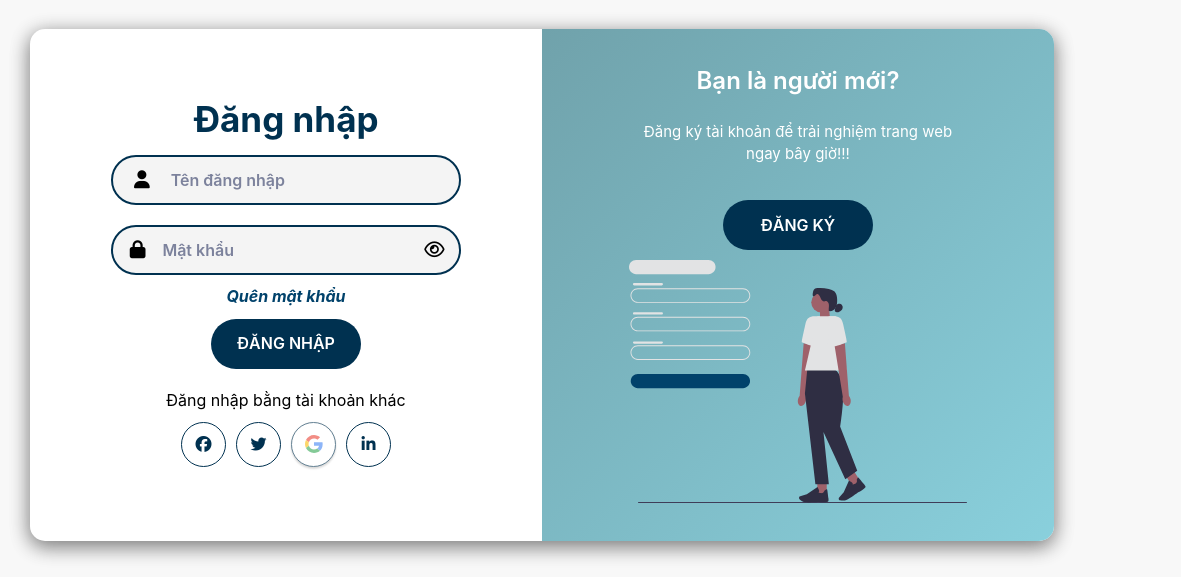
Test case: Login › Login failed
Type "testUser" into the password field with id "login-password" at [286, 250], box left=162, top=239, right=410, bottom=262
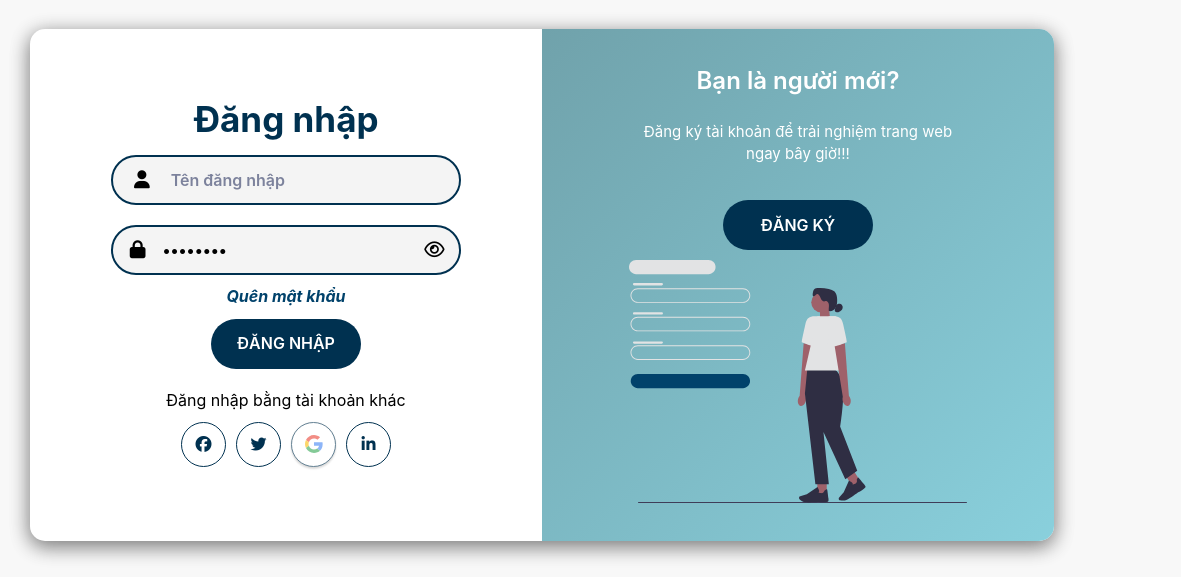
Type "NewPass@123" into the field with id "login-username" at [315, 180], box left=171, top=169, right=459, bottom=192
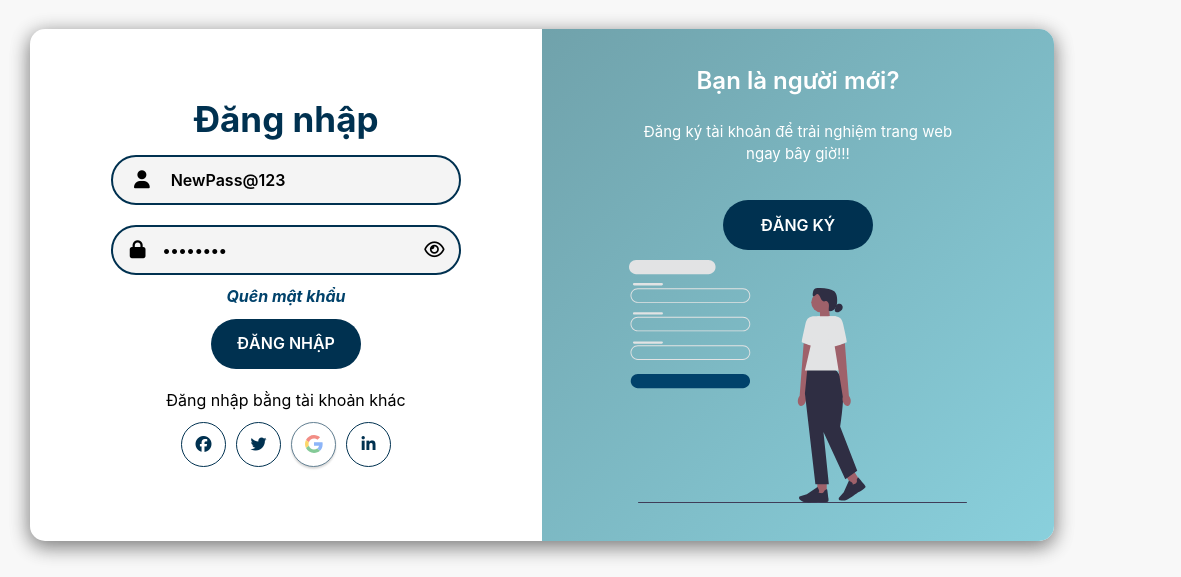
Submit the form from the button with id "login-btn", box left=211, top=318, right=361, bottom=368
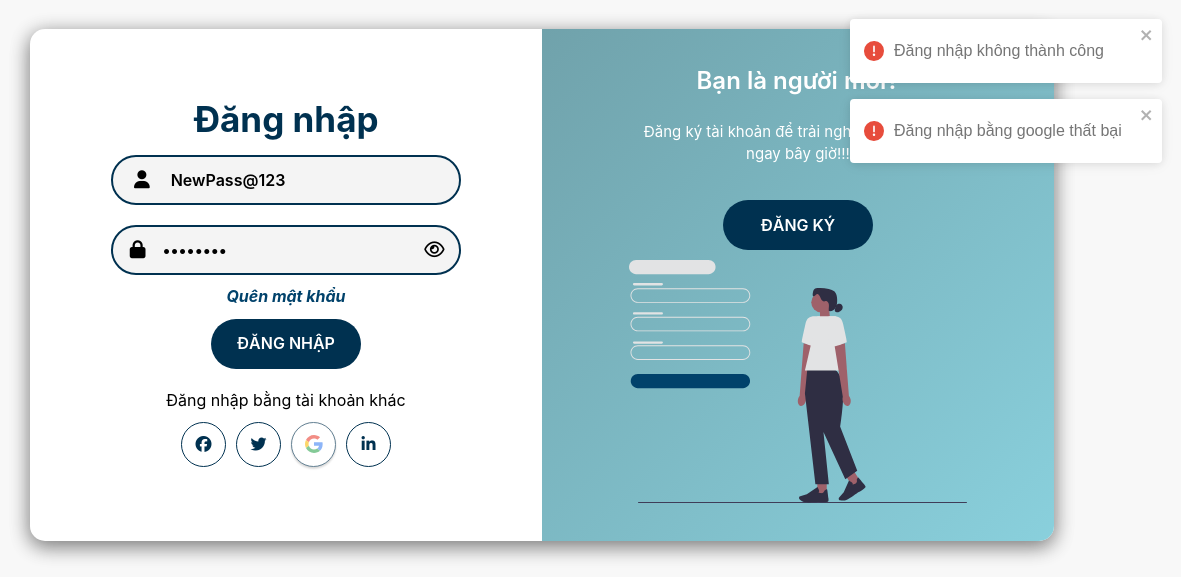
Result: the text "Đăng nhập không thành công" is shown at left=894, top=39, right=1134, bottom=63
